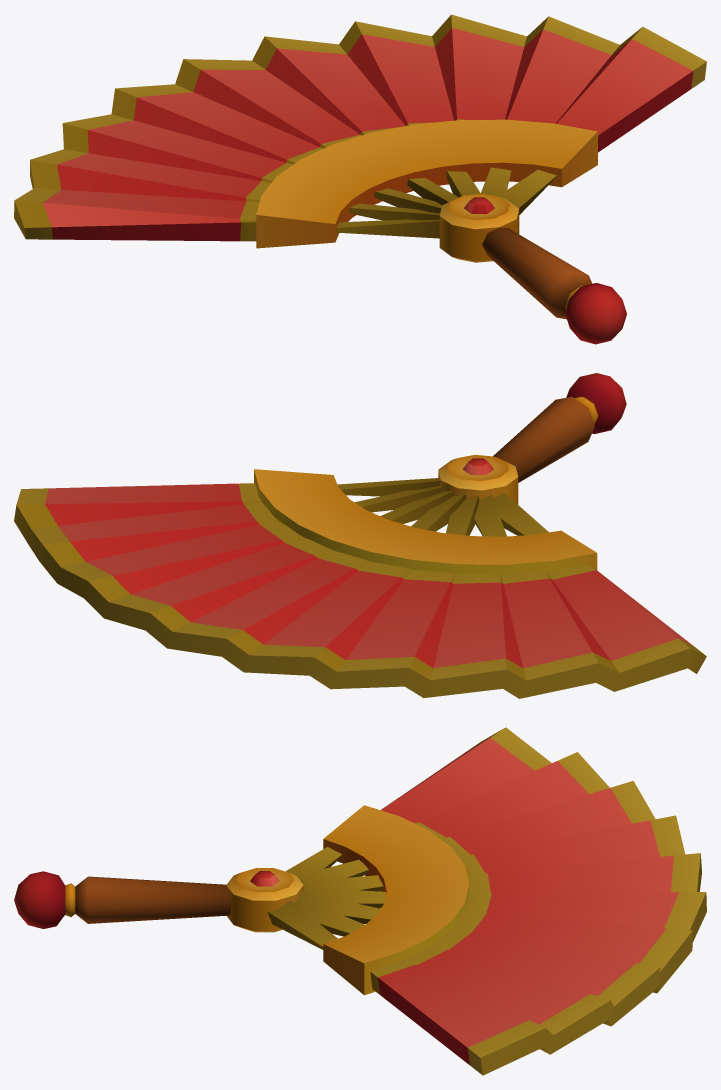
File: Melee_Chinesefan.fbx
3 views of the same model, one above another, from view 1: azimuth 30°, elevation 25°; view 2: azimuth 150°, elevation 25°; view 3: azimuth 270°, elevation 25° (orthographic). The views are drawn at different scales.
Parts seen in each view (by area): view 1: Melee_Chinesefan; view 2: Melee_Chinesefan; view 3: Melee_Chinesefan.
Boxes of the visible parts, left/top/right/bottom form: Melee_Chinesefan: left=14, top=14, right=706, bottom=344; Melee_Chinesefan: left=14, top=373, right=706, bottom=698; Melee_Chinesefan: left=14, top=727, right=706, bottom=1075.
Bounding box in the file's own units: 0.8128 × 0.064 × 0.7532.
